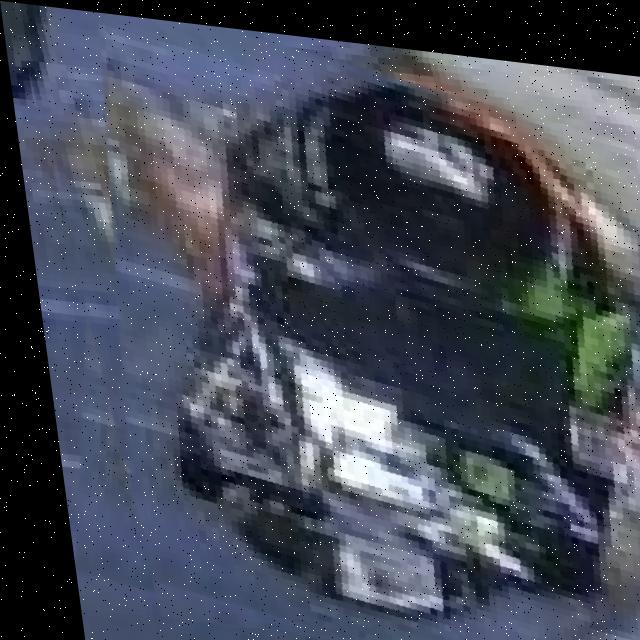can: (106, 30, 640, 637)
